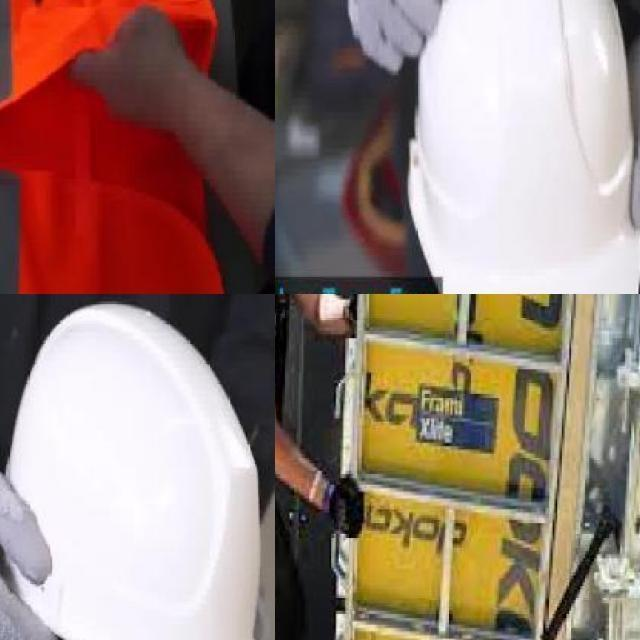apron: (0, 428, 57, 640), (343, 0, 476, 76), (625, 17, 640, 248)
